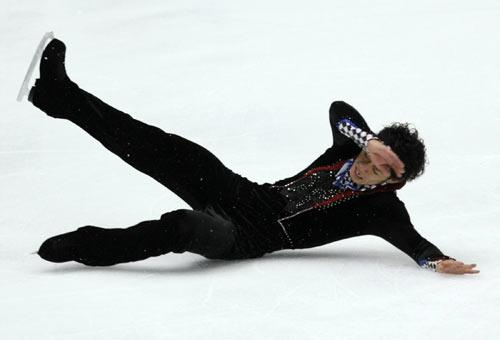down: (25, 35, 489, 279)
